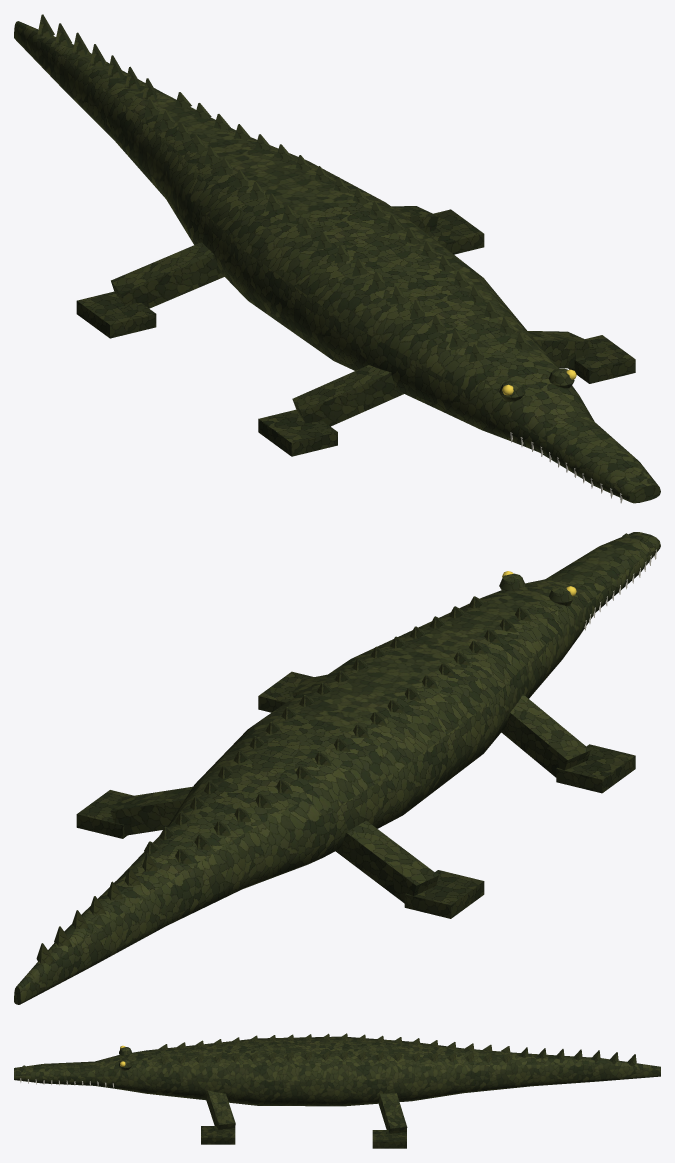
File: gator.glb
3 views of the same model, one above another, from view 1: azimuth 30°, elevation 25°; view 2: azimuth 150°, elevation 25°; view 3: azimuth 270°, elevation 25° (orthographic). The views are drawn at different scales.
Parts seen in each view (by area): view 1: X_gator; view 2: X_gator; view 3: X_gator.
Boxes of the visible parts, x1,y1,x2,y2 form: X_gator: (14,14,660,503); X_gator: (14,532,660,1004); X_gator: (14,1033,660,1148).
Bounding box in the file's own units: 1.3 × 0.3807 × 3.77.
3 materials, 1 textured.
